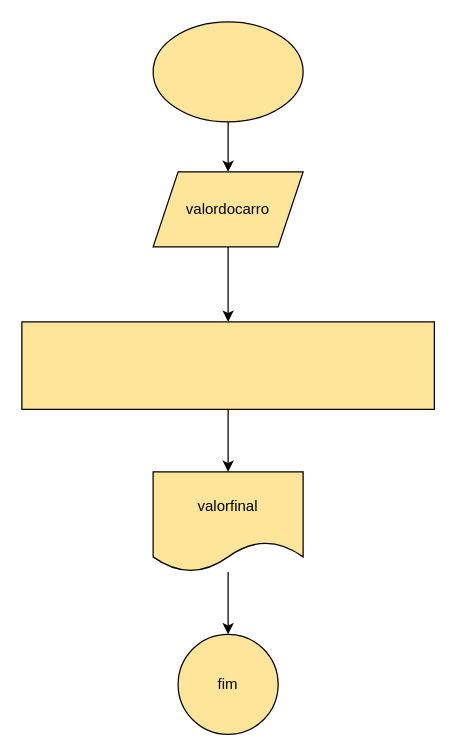
Image size: 456x756. Some labels were removed from this diagram. The box of each missing label's shape, as (x1, y1, x2, y2) in pixels:
imposto=(valordocarro*45/100)+valordocarro valorfinal= (imposto*28/100)+imposto: (21, 321, 434, 409)
inicio: (152, 21, 303, 122)
